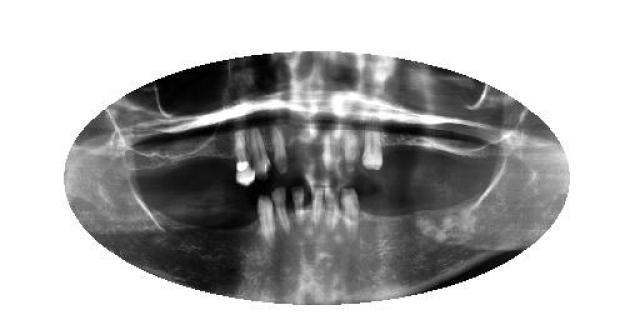Fillings: (234, 130, 255, 188)
